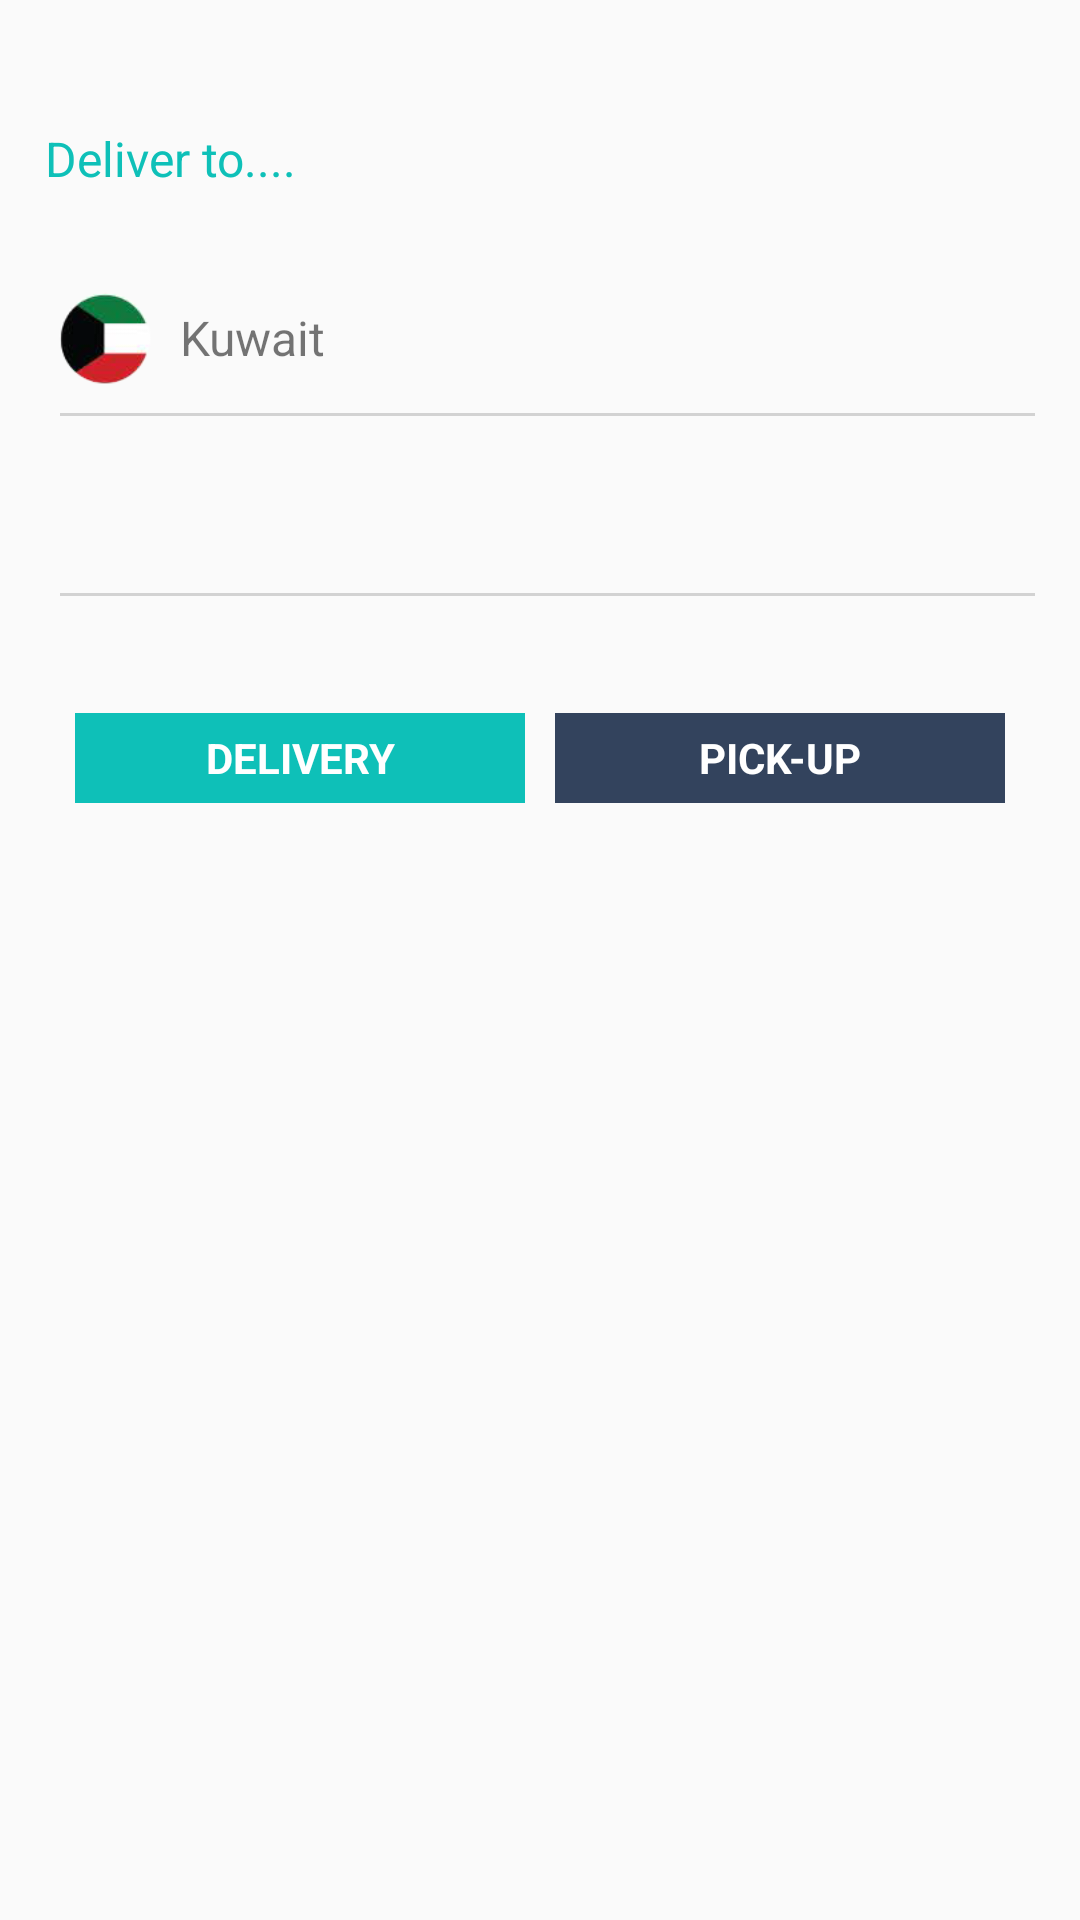

Icon click points for this 1080×1920 phone screenshot, format (x,y):
country: (103,339)
